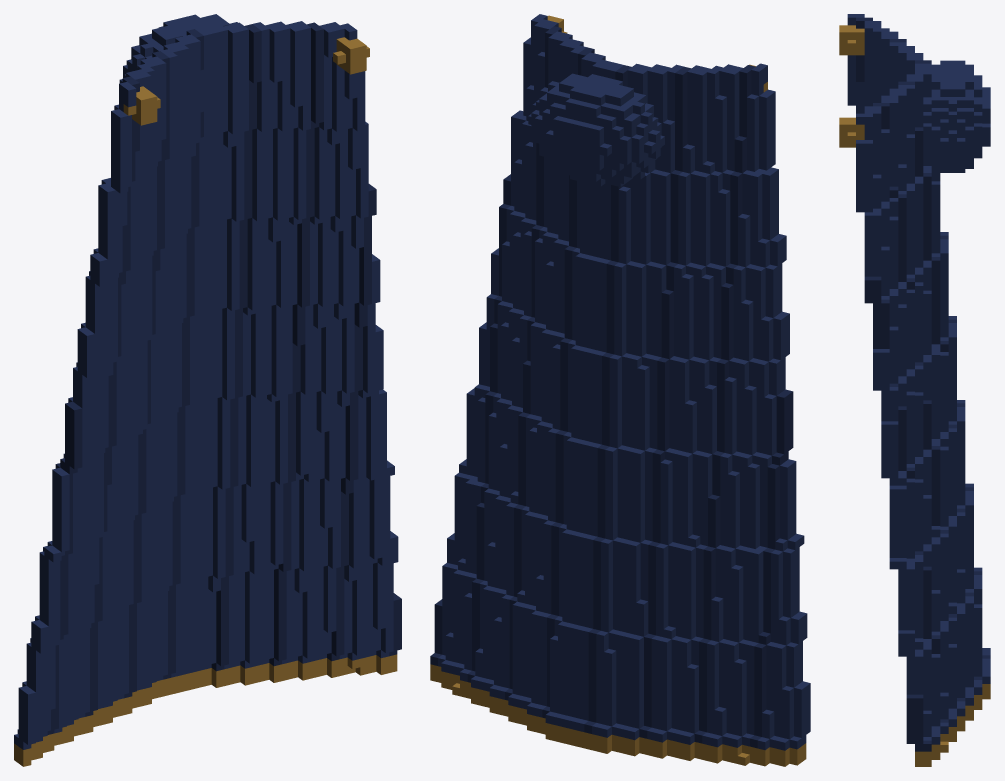
File: cloth_rare_cloak.glb
3 renders of one model, left to right at view 1: azimuth 30°, elevation 25°; view 2: azimuth 150°, elevation 25°; view 3: azimuth 270°, elevation 25°, orthographic. The views are drawn at different scales.
Visible parts, largest first — view 1: cloth_rare_cloak; view 2: cloth_rare_cloak; view 3: cloth_rare_cloak.
Part boxes in pixels (x1,y1,x2,y2): cloth_rare_cloak: (14,14,401,766); cloth_rare_cloak: (430,14,810,766); cloth_rare_cloak: (839,14,990,766).
Bounding box in the file's own units: 0.564 × 0.972 × 0.216.
